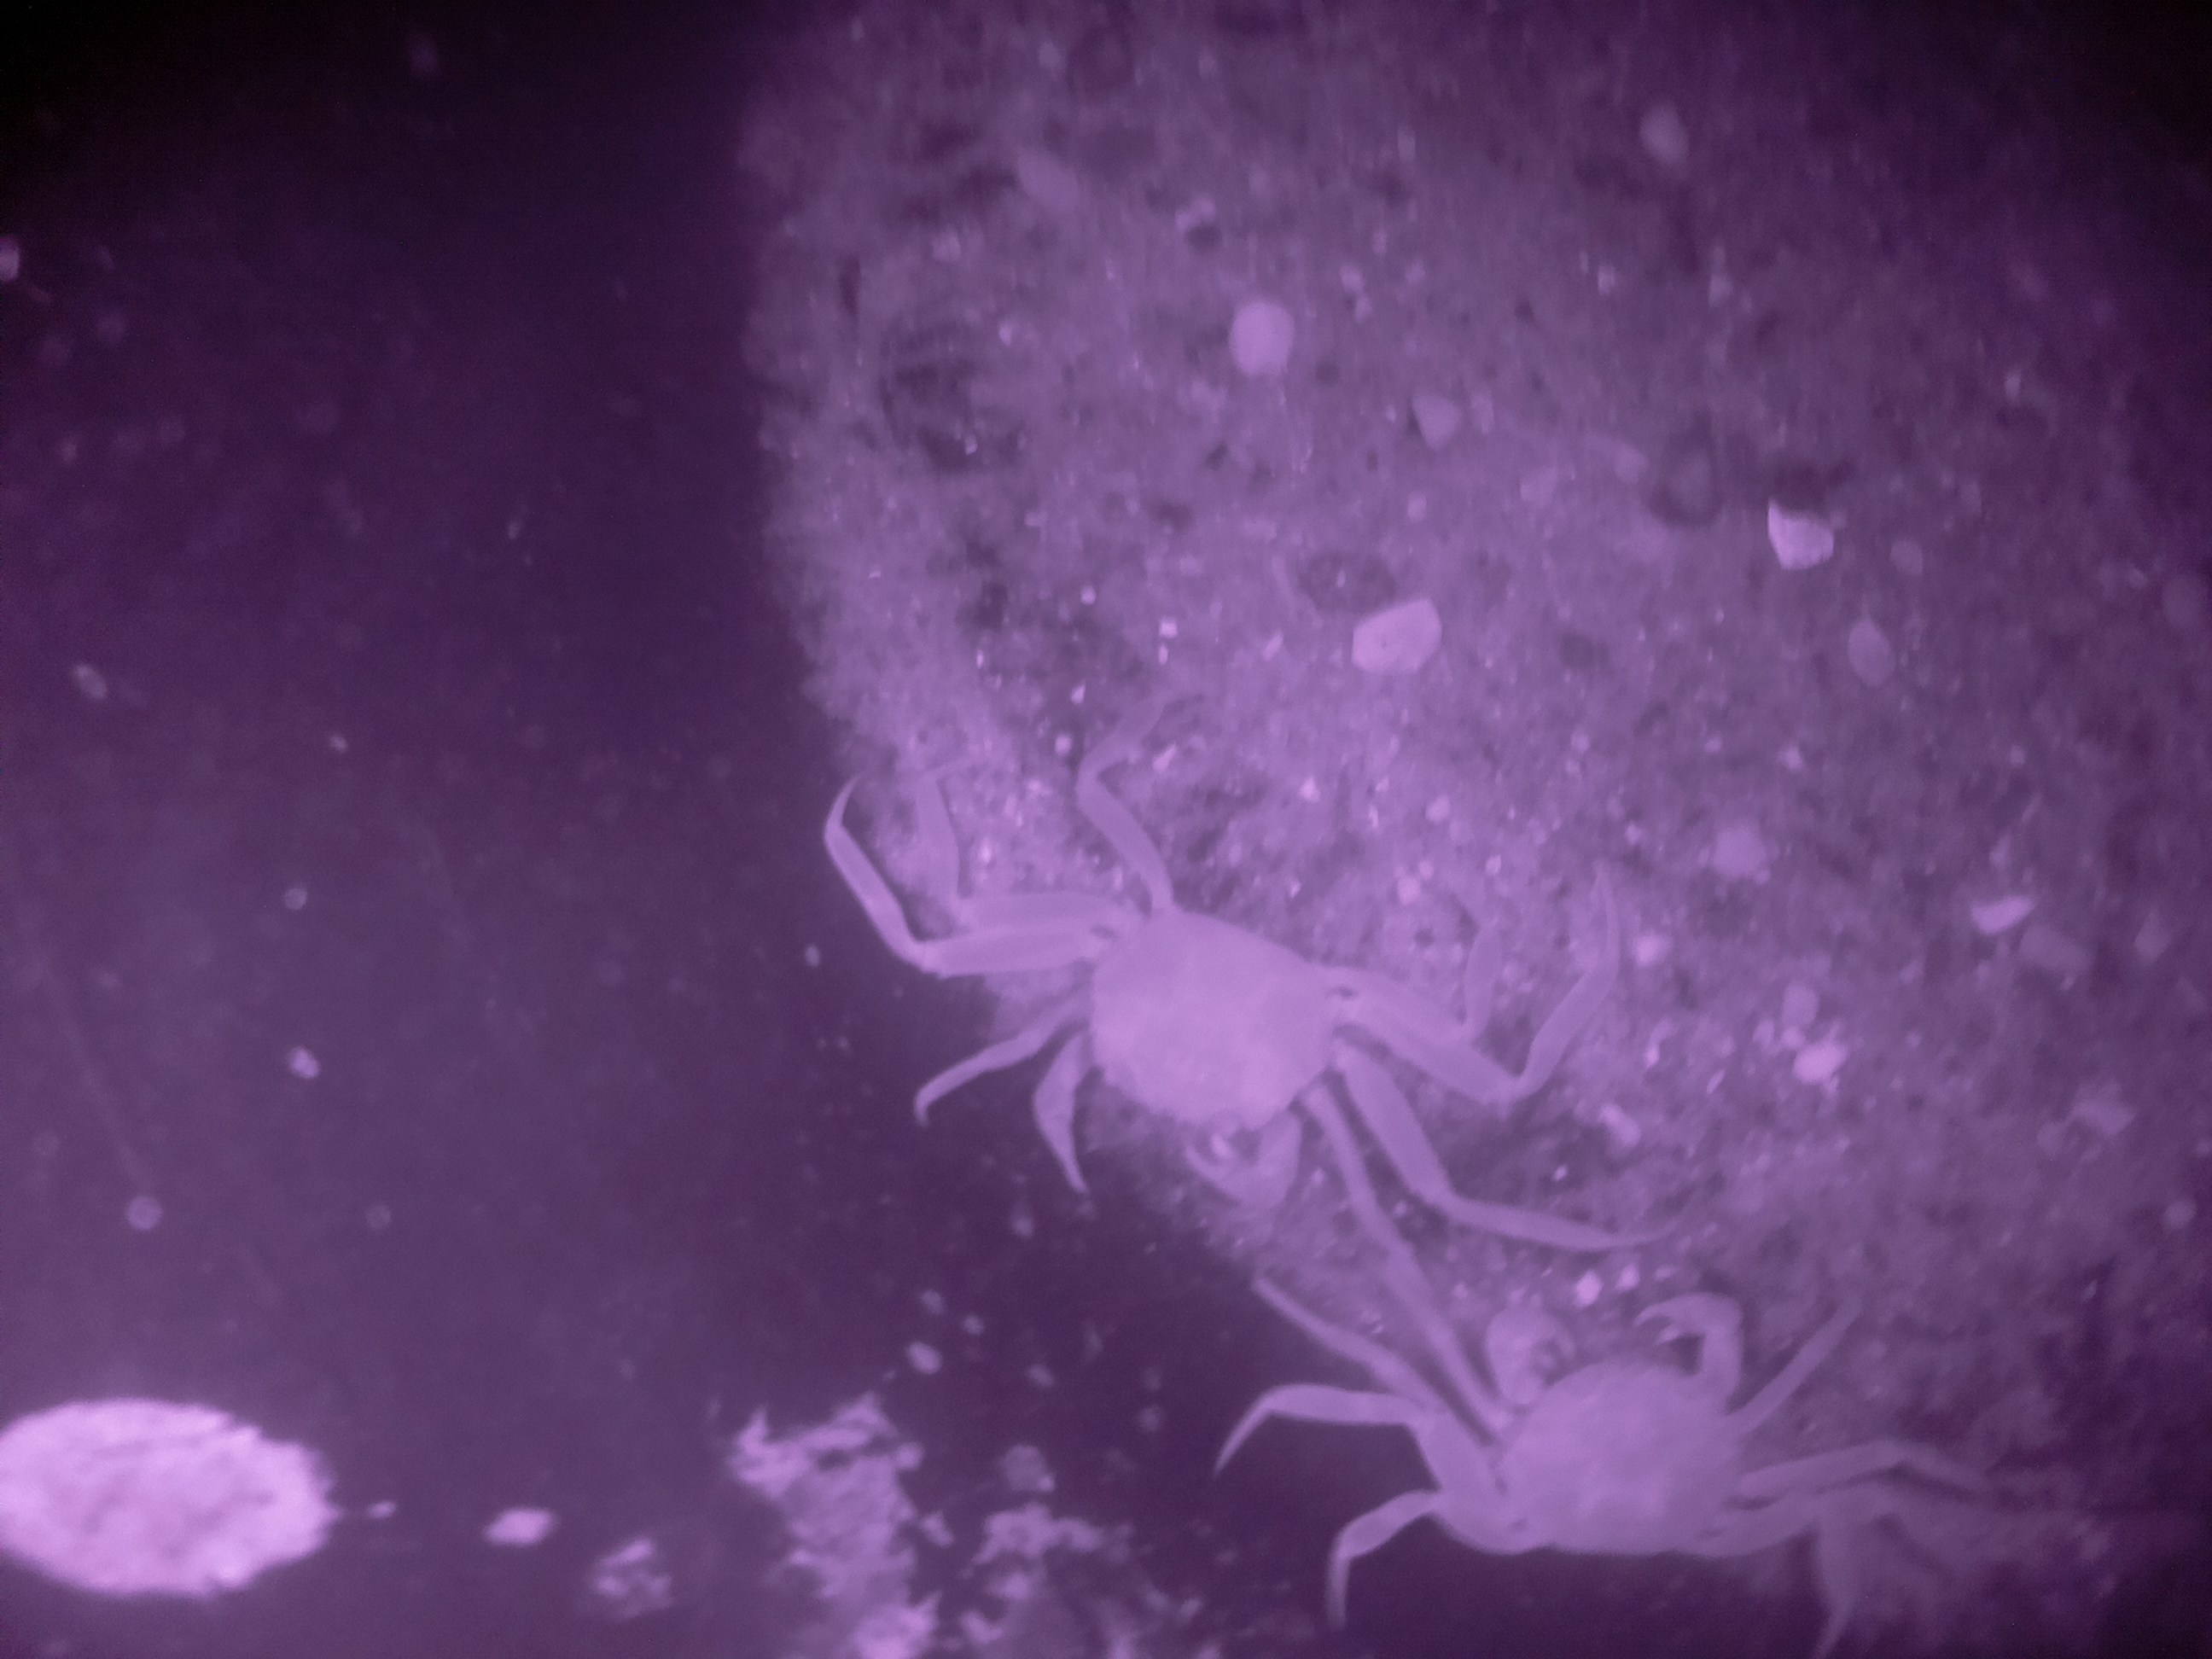Crab: (961, 777, 1437, 1300), (1318, 1256, 1844, 1584)
